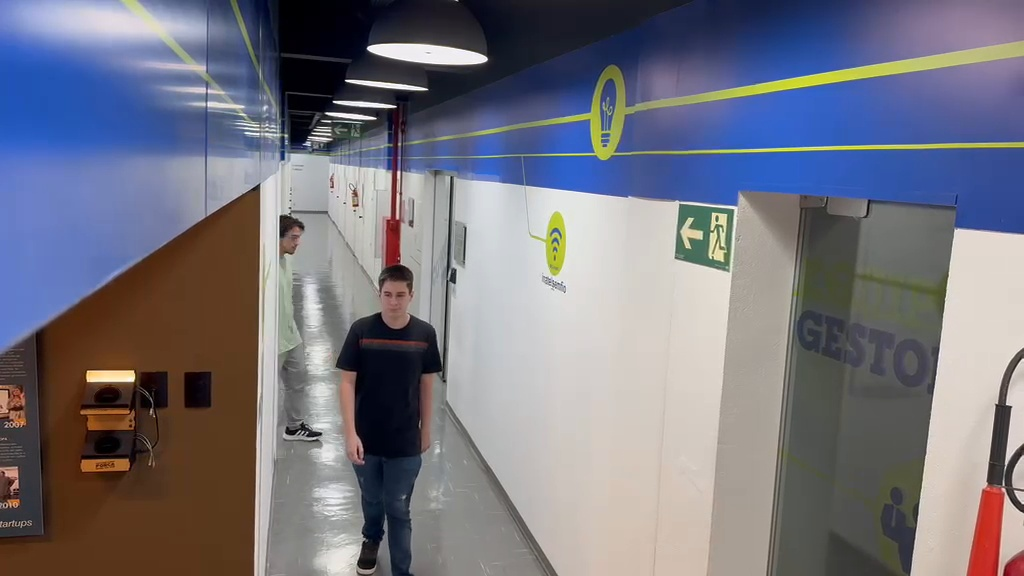person: (335, 264, 442, 575)
